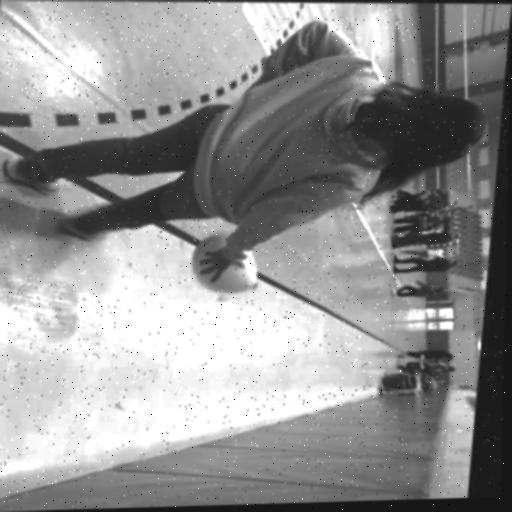balloon: (195, 230, 266, 294)
